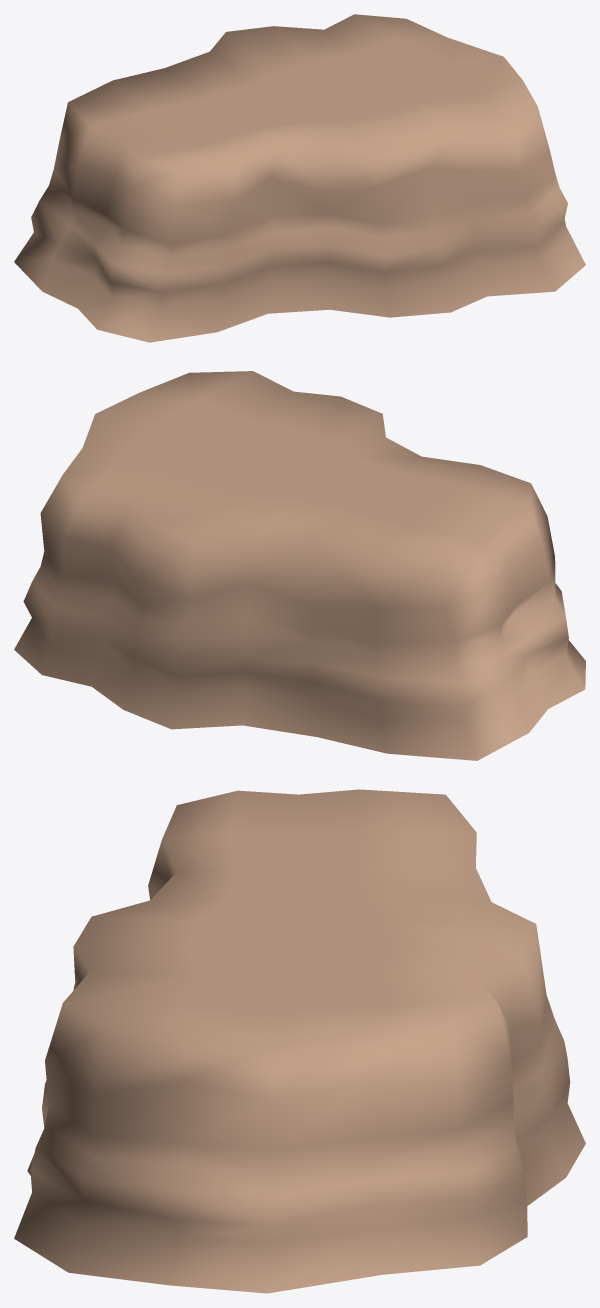
File: Cliff_2_LP.FBX
3 views of the same model, one above another, from view 1: azimuth 30°, elevation 25°; view 2: azimuth 150°, elevation 25°; view 3: azimuth 270°, elevation 25° (orthographic). The views are drawn at different scales.
Parts seen in each view (by area): view 1: Plane001; view 2: Plane001; view 3: Plane001.
Boxes of the visible parts, x1,y1,x2,y2 form: Plane001: [14, 14, 585, 342]; Plane001: [14, 371, 585, 760]; Plane001: [14, 789, 585, 1293].
Size of the model in its own units: 276 by 88.8 by 211.
